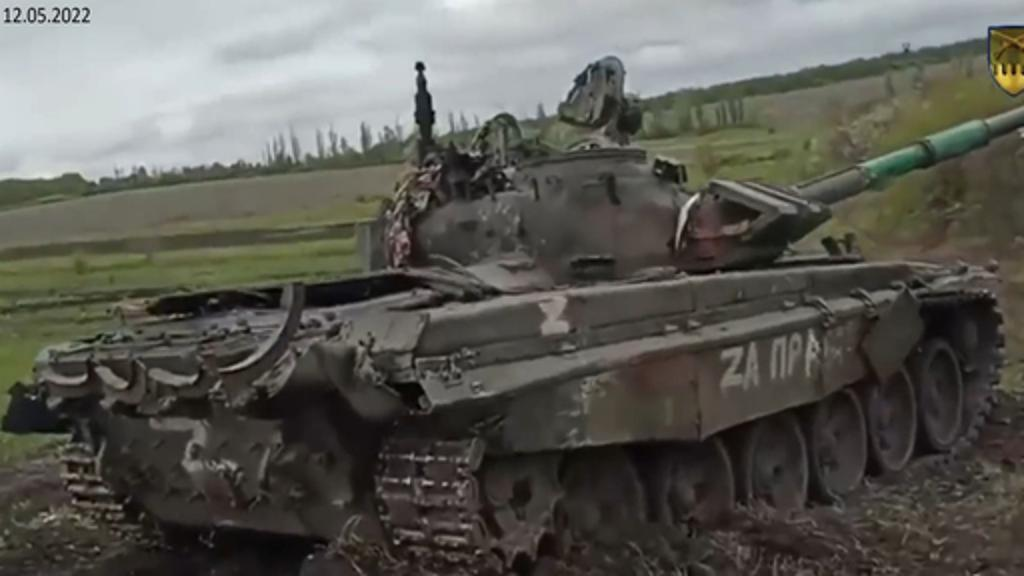TANK: (18, 84, 1010, 570)
